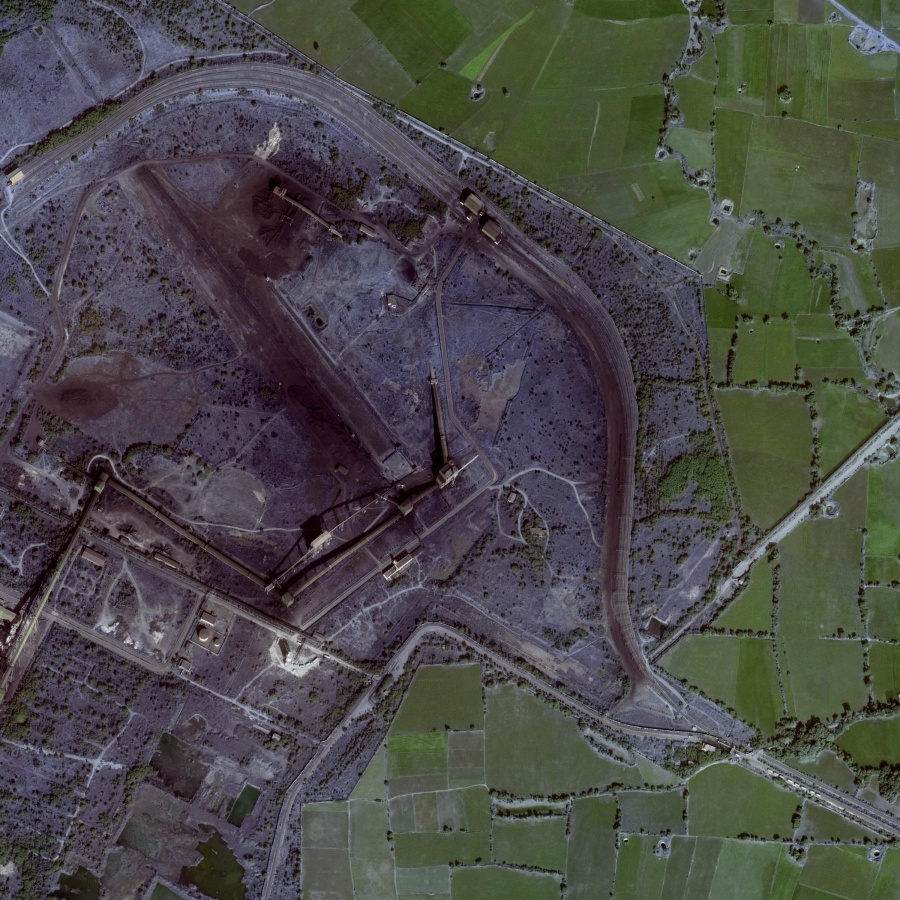PowerPlant: (95, 131, 421, 527)
